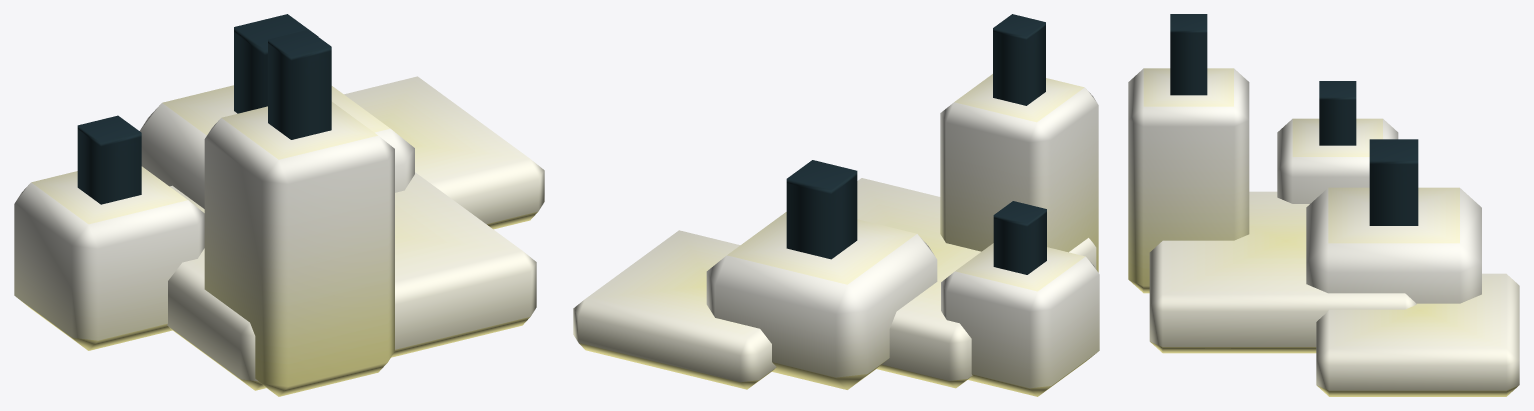
Rendered from candle_arrangement_3.fbx.
The picture shows the model from 3 angles, left to right: view 1: azimuth 30°, elevation 25°; view 2: azimuth 150°, elevation 25°; view 3: azimuth 270°, elevation 25°; orthographic projection. The views are drawn at different scales.
Visible parts, largest first — view 1: candle_arrangement_3; view 2: candle_arrangement_3; view 3: candle_arrangement_3.
Part boxes in pixels (x1,y1,x2,y2): candle_arrangement_3: [14, 14, 544, 396]; candle_arrangement_3: [573, 14, 1099, 396]; candle_arrangement_3: [1128, 14, 1519, 396].
Bounding box in the file's own units: 69.08 × 42.68 × 59.92.
Materials: 1 (1 with a texture image).
